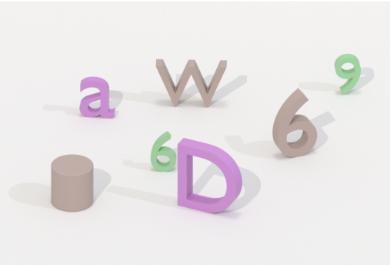0-KhoiTru: (48, 151, 99, 216)
6: (268, 86, 322, 161), (148, 129, 178, 174)
9: (331, 51, 365, 98)
D: (177, 134, 244, 217)
W: (152, 53, 230, 110)
a: (78, 73, 116, 120)
